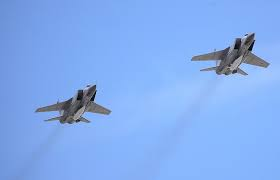fighter: (188, 29, 272, 78), (34, 80, 115, 129)
